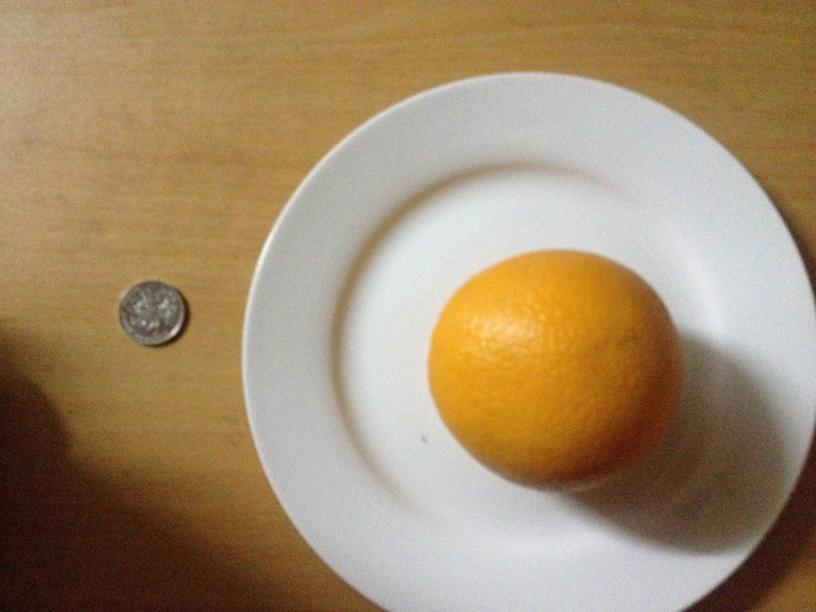coin: (115, 280, 187, 348)
orange: (429, 245, 680, 493)
